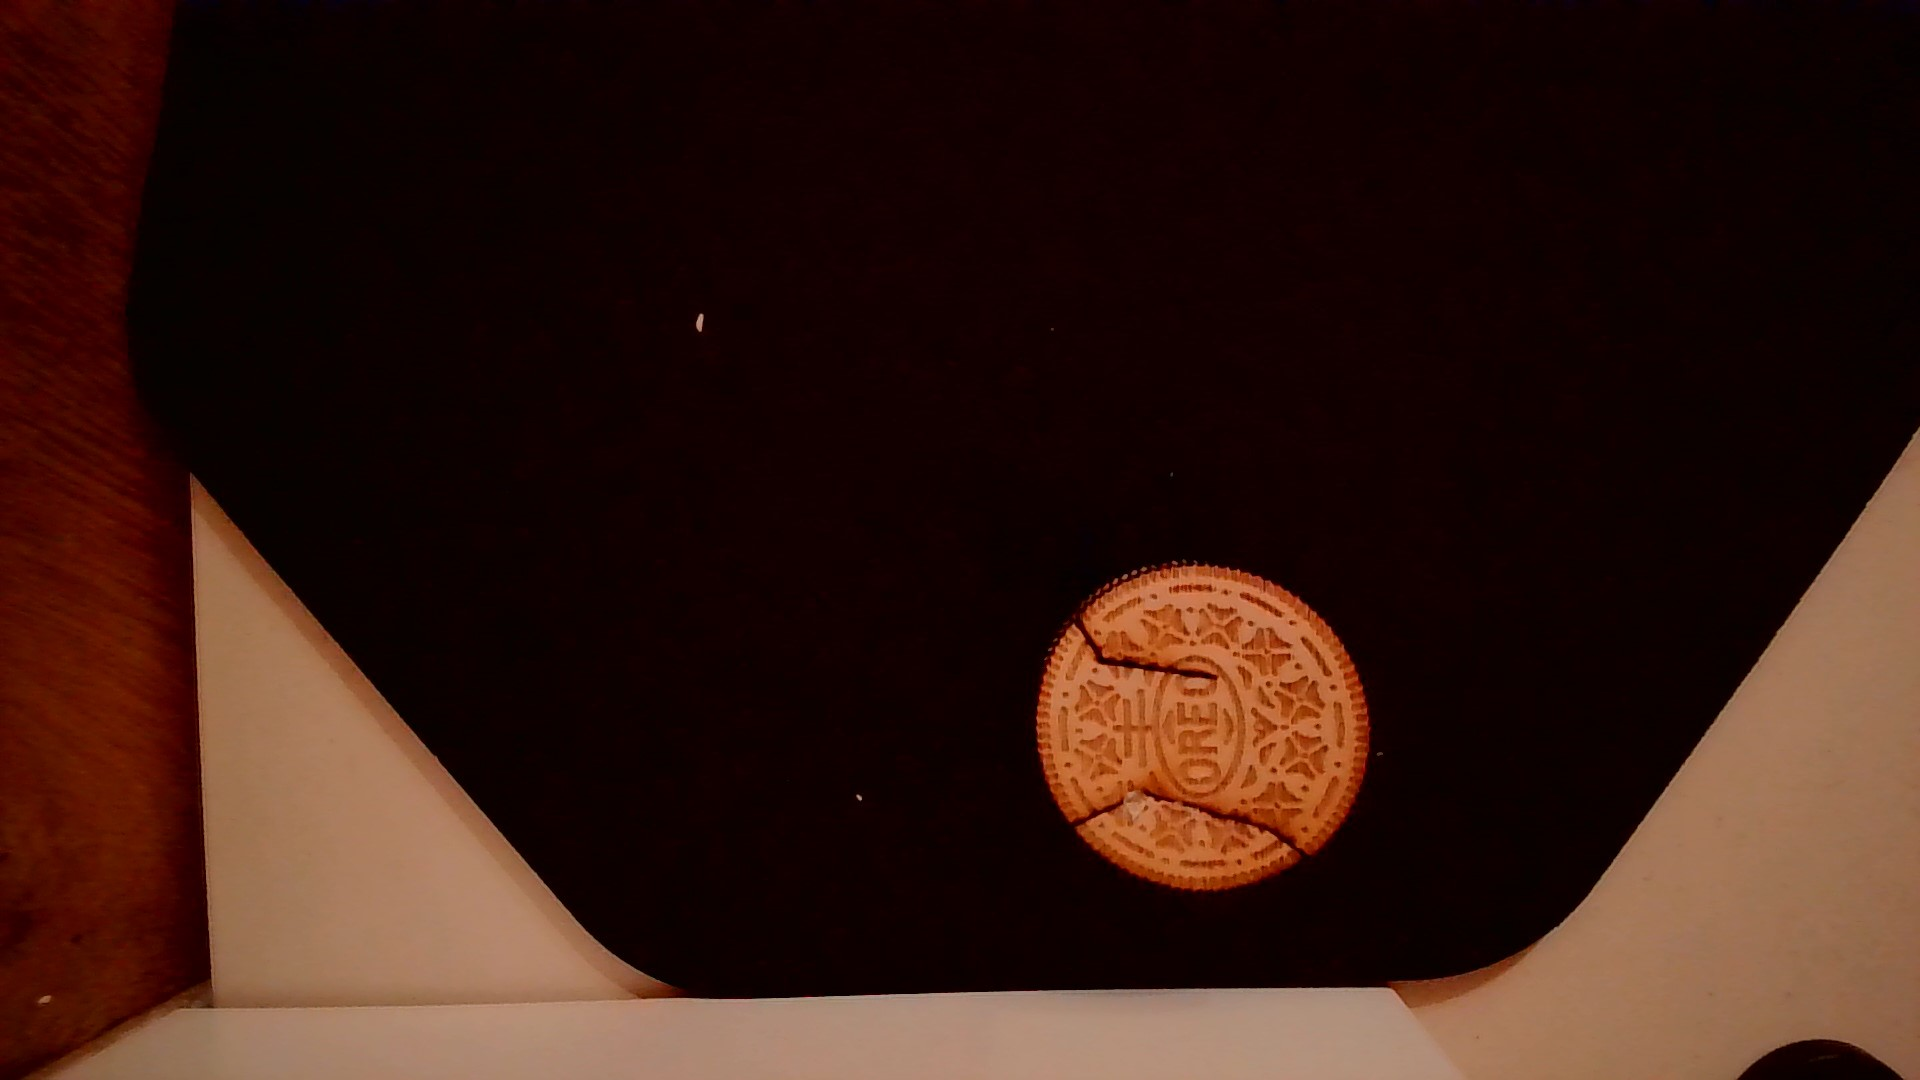Fissure: (1058, 775, 1313, 880), (1068, 603, 1230, 691)
Oréo: (1029, 556, 1373, 898)
